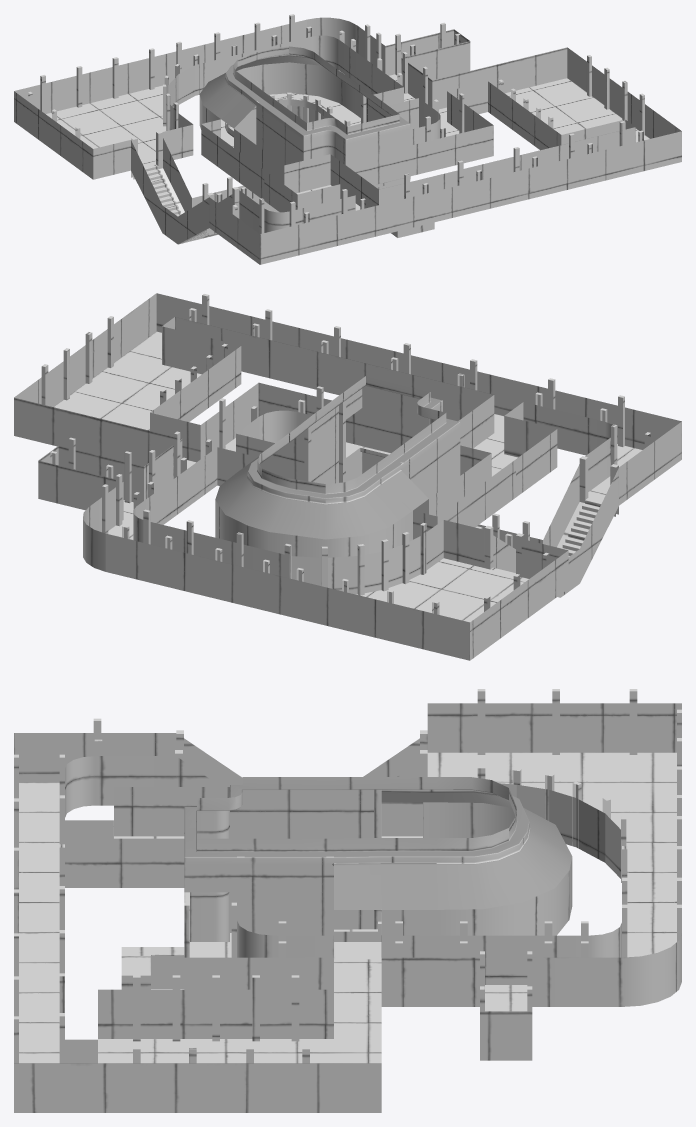
Rendered from amapavuvsvsa.fbx.
3 renders of one model, top to bottom at view 1: azimuth 30°, elevation 25°; view 2: azimuth 150°, elevation 25°; view 3: azimuth 270°, elevation 25°, orthographic. The views are drawn at different scales.
Parts seen in each view (by area): view 1: Mapa, polySurface16, pPlane19; view 2: Mapa, Escaleras, polySurface15; view 3: Mapa, Entrada, polySurface16.
Part boxes in pixels (bbox=[...]): Mapa: bbox=[14, 17, 681, 264]; polySurface16: bbox=[225, 92, 350, 137]; pPlane19: bbox=[144, 164, 181, 216]; Mapa: bbox=[14, 293, 681, 660]; Escaleras: bbox=[562, 498, 602, 556]; polySurface15: bbox=[339, 400, 345, 482]; Mapa: bbox=[14, 703, 681, 1112]; Entrada: bbox=[121, 947, 184, 975]; polySurface16: bbox=[334, 921, 381, 941].
Size of the model in its own units: 5779 by 1208 by 4530.
